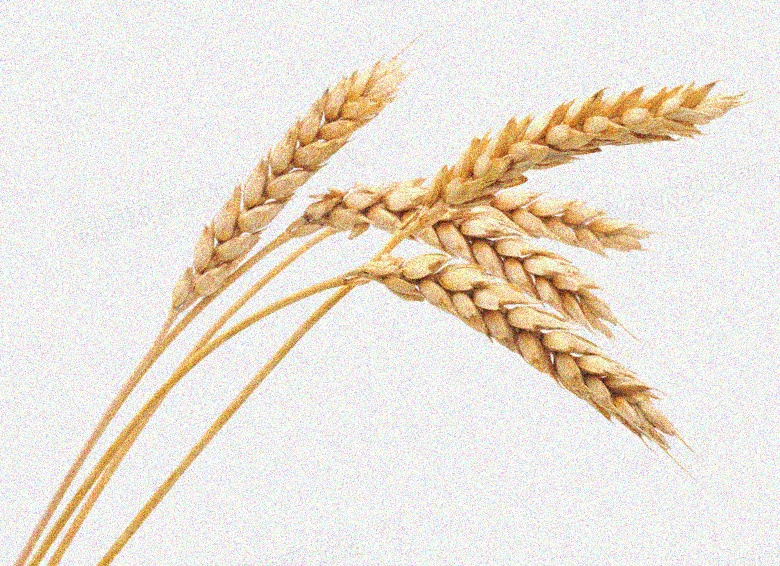wheat: (153, 57, 397, 342), (376, 71, 745, 257), (346, 258, 681, 453)
